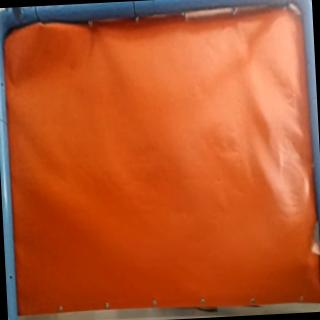Hit-hRxx: (302, 254, 315, 272)
